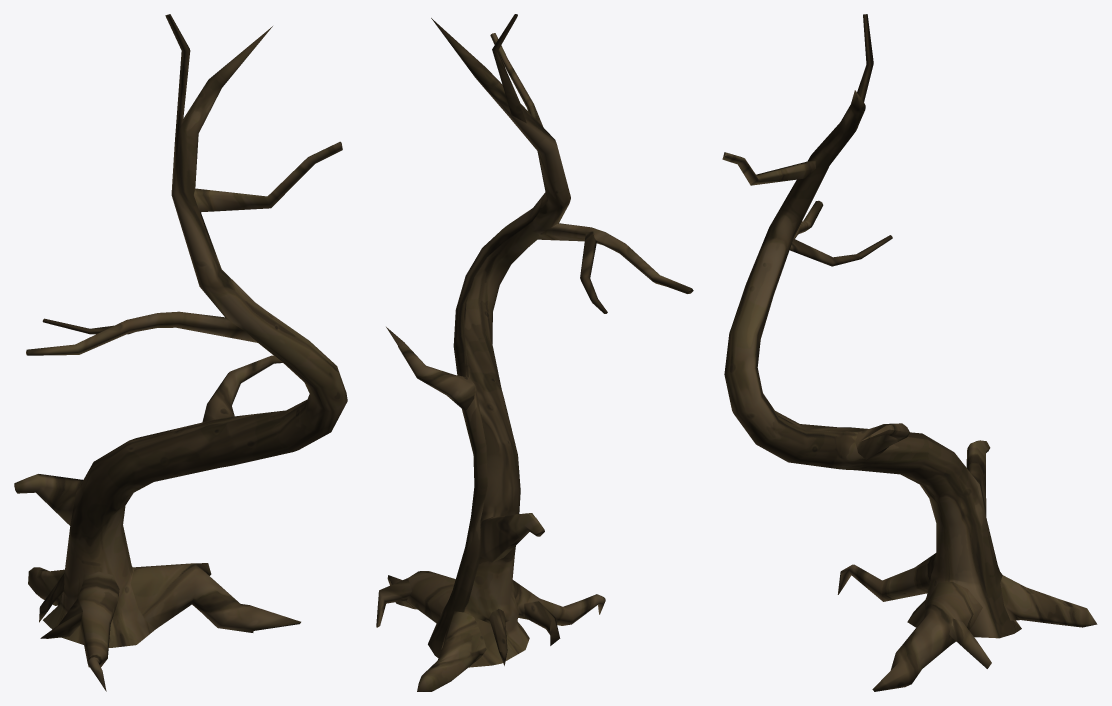
File: deadTree001_V4 1.fbx
3 views of the same model, side by side, from view 1: azimuth 30°, elevation 25°; view 2: azimuth 150°, elevation 25°; view 3: azimuth 270°, elevation 25° (orthographic). The views are drawn at different scales.
Parts seen in each view (by area): view 1: deadTree_001; view 2: deadTree_001; view 3: deadTree_001.
Part boxes in pixels (bbox=[...]): deadTree_001: bbox=[14, 14, 347, 691]; deadTree_001: bbox=[376, 14, 693, 691]; deadTree_001: bbox=[722, 14, 1097, 691].
Bounding box in the file's own units: 15.67 × 31.34 × 17.06.
1 material, 1 textured.
